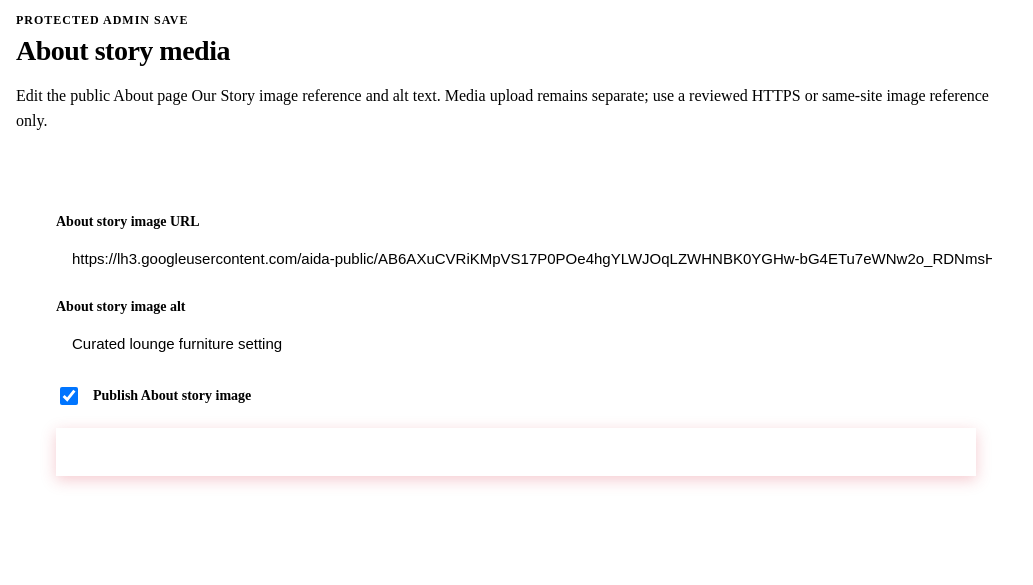
Test case: public page media management panel › rejects invalid image input before requesting a proof
Replace the text in the field labelled "About story image URL" with "http://cdn.example.test/about-story.jpg" at (532, 258), box [56,238,1008,279]
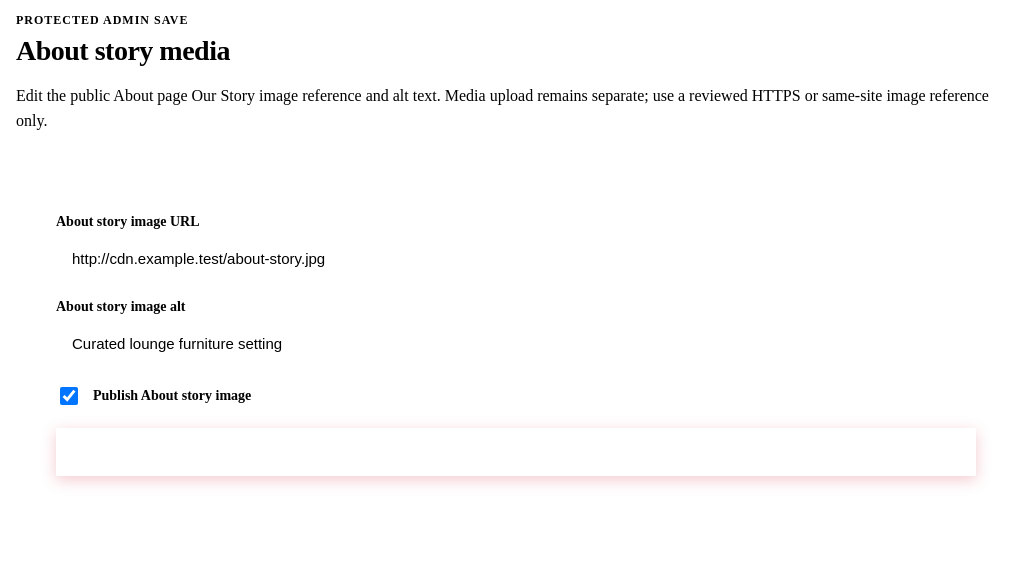
Click the button "Save About story image" at (516, 452), box [56,428,976,476]
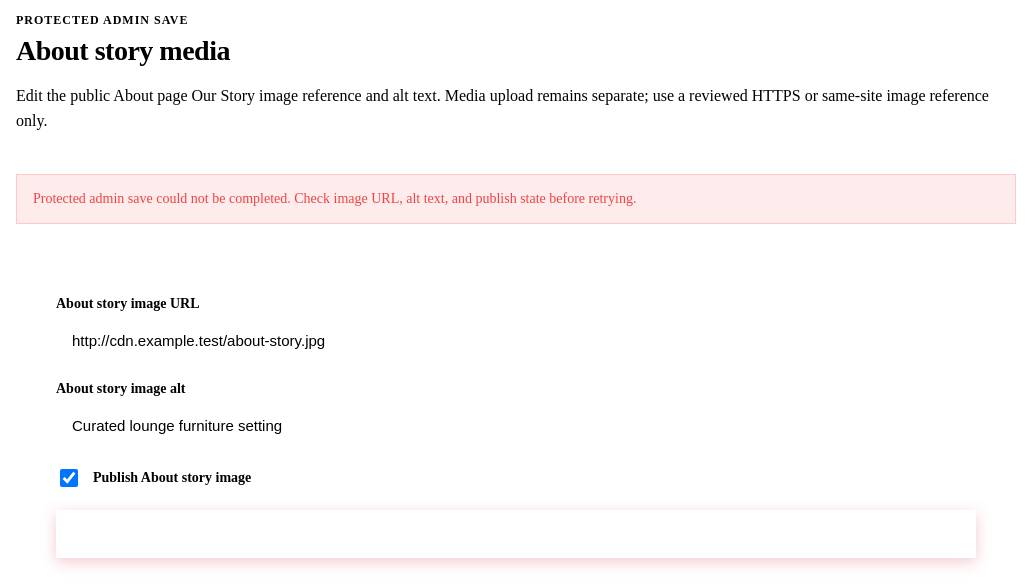
Check: the text "check image URL, alt text, and publish state" is shown, box [33,191,636,206]
